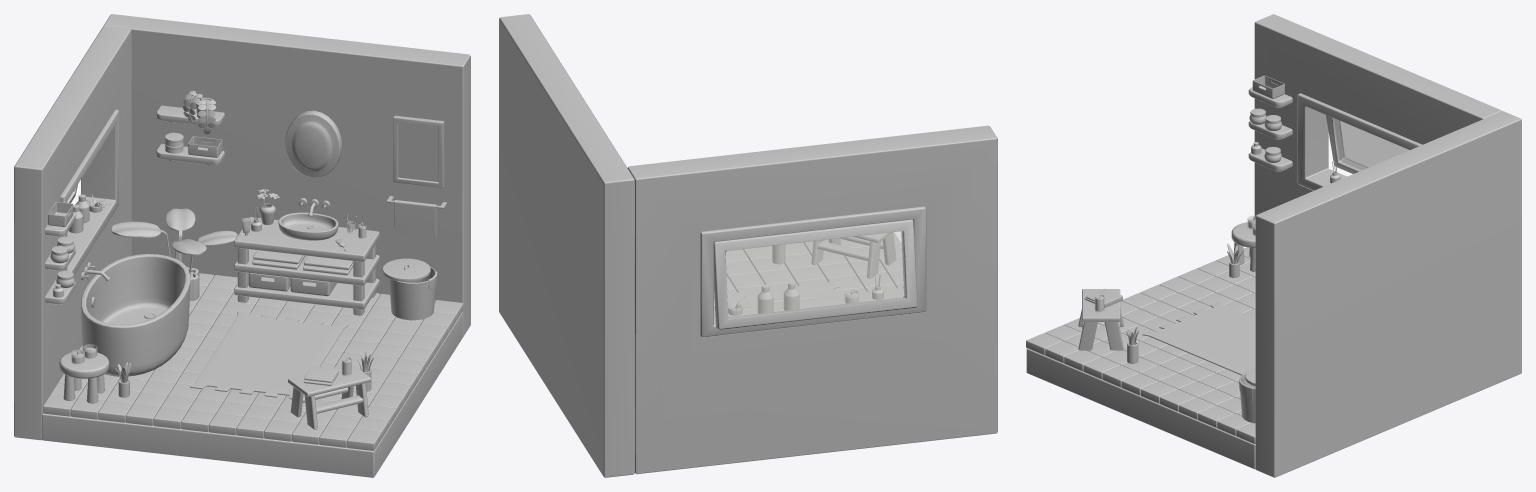
Rendered from Bathroom_29.fbx.
3 views of the same model, side by side, from view 1: azimuth 30°, elevation 25°; view 2: azimuth 150°, elevation 25°; view 3: azimuth 270°, elevation 25° (orthographic). The views are drawn at different scales.
Parts seen in each view (by area): view 1: Room_29_Wall_1, Room_29_Tile_1, Room_29_Wall_2, Room_29_Floor_1, Room_29_Bath_1, Room_29_Carpet_1, Room_29_Shelf_1, Room_29_Window_1, Room_29_Painting_1, Room_29_Mirror_1, Room_29_Plant_1, Room_29_Laundry_basket_1 (+14 smaller); view 2: Room_29_Wall_2, Room_29_Wall_1, Room_29_Window_1, Room_29_Tile_1, Room_29_Small_Ladder, Room_29_Carpet_1; view 3: Room_29_Wall_1, Room_29_Wall_2, Room_29_Tile_1, Room_29_Window_1, Room_29_Floor_1, Room_29_Carpet_1, Room_29_Small_Ladder, Room_29_Laundry_basket_1, Room_29_Chair_1, Room_29_Box_4.
Part boxes in pixels (<box>): Room_29_Wall_1: <box>103,14,470,336</box>; Room_29_Tile_1: <box>43,273,463,450</box>; Room_29_Wall_2: <box>14,26,131,440</box>; Room_29_Floor_1: <box>42,312,463,477</box>; Room_29_Bath_1: <box>81,254,190,376</box>; Room_29_Carpet_1: <box>190,312,348,399</box>; Room_29_Shelf_1: <box>234,217,379,315</box>; Room_29_Window_1: <box>60,109,118,276</box>; Room_29_Painting_1: <box>393,115,444,187</box>; Room_29_Mirror_1: <box>285,110,342,177</box>; Room_29_Plant_1: <box>111,208,237,300</box>; Room_29_Laundry_basket_1: <box>382,258,437,320</box>; Room_29_Wall_2: <box>627,125,997,474</box>; Room_29_Wall_1: <box>499,14,634,477</box>; Room_29_Window_1: <box>700,206,926,337</box>; Room_29_Tile_1: <box>714,232,903,294</box>; Room_29_Small_Ladder: <box>811,232,896,278</box>; Room_29_Carpet_1: <box>714,280,844,308</box>; Room_29_Wall_1: <box>1255,111,1521,477</box>; Room_29_Wall_2: <box>1254,14,1501,218</box>; Room_29_Tile_1: <box>1026,247,1255,444</box>; Room_29_Window_1: <box>1297,93,1422,190</box>; Room_29_Floor_1: <box>1026,348,1255,469</box>; Room_29_Carpet_1: <box>1142,301,1255,375</box>; Room_29_Small_Ladder: <box>1078,289,1123,350</box>; Room_29_Laundry_basket_1: <box>1239,367,1255,423</box>; Room_29_Chair_1: <box>1231,222,1255,272</box>; Room_29_Box_4: <box>1252,75,1284,98</box>.
Size of the model in its own units: 703 by 400 by 703.
